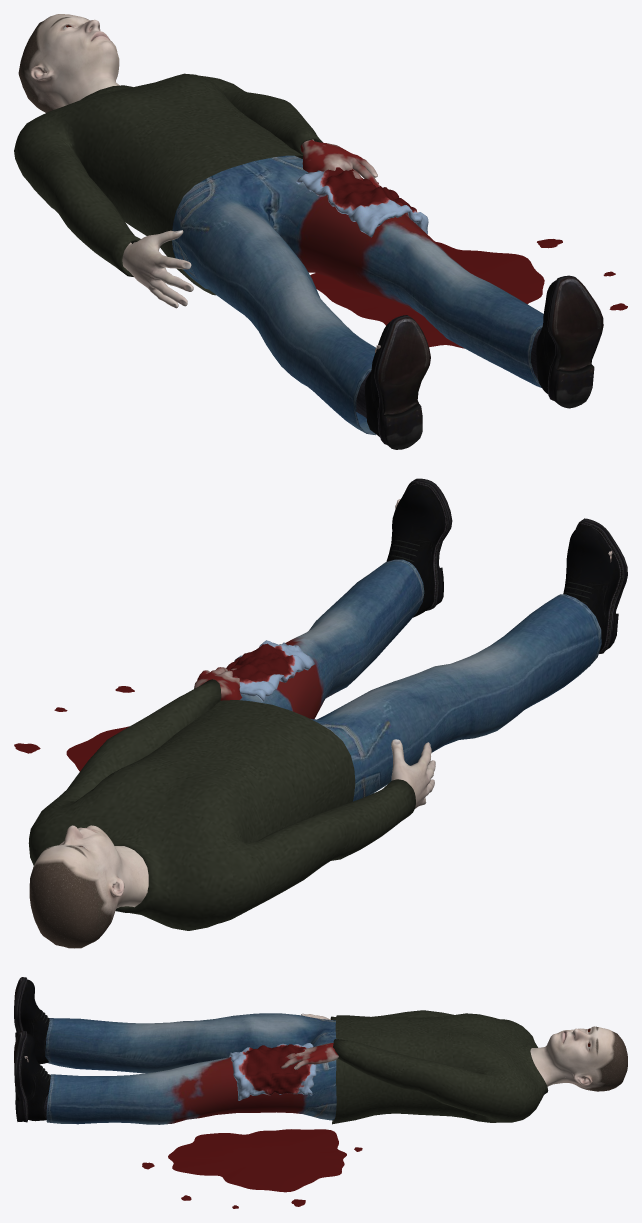
File: patient.glb
The picture shows the model from 3 angles, top to bottom: view 1: azimuth 30°, elevation 25°; view 2: azimuth 150°, elevation 25°; view 3: azimuth 270°, elevation 25°; orthographic projection. The views are drawn at different scales.
Parts seen in each view (by area): view 1: clothing_trousers, clothing_shirt, clothing_boots, head, blood_pool, dressing_thigh_left, arm_right, arm_left, airway; view 2: clothing_shirt, clothing_trousers, clothing_boots, head, dressing_thigh_left, arm_right, airway, blood_pool, arm_left; view 3: clothing_trousers, clothing_shirt, blood_pool, clothing_boots, head, dressing_thigh_left, arm_left, airway.
Boxes of the visible parts, x1,y1,x2,y2 form: clothing_trousers: [172, 155, 543, 435]; clothing_shirt: [14, 73, 322, 295]; clothing_boots: [356, 275, 603, 449]; head: [18, 14, 119, 112]; blood_pool: [310, 239, 627, 348]; dressing_thigh_left: [296, 167, 428, 237]; arm_right: [122, 230, 193, 308]; arm_left: [300, 139, 379, 187]; airway: [58, 77, 119, 107]; clothing_shirt: [28, 679, 415, 930]; clothing_trousers: [240, 559, 601, 801]; clothing_boots: [386, 478, 627, 653]; head: [29, 825, 128, 948]; dressing_thigh_left: [226, 640, 314, 701]; arm_right: [391, 739, 435, 808]; airway: [114, 846, 148, 908]; blood_pool: [14, 686, 134, 771]; arm_left: [194, 667, 242, 700]; clothing_trousers: [45, 1013, 336, 1124]; clothing_shirt: [330, 1010, 548, 1124]; blood_pool: [142, 1129, 362, 1208]; clothing_boots: [14, 977, 50, 1122]; head: [543, 1026, 627, 1091]; dressing_thigh_left: [229, 1043, 316, 1100]; arm_left: [280, 1043, 338, 1069]; airway: [531, 1047, 571, 1086].
Bounding box in the file's own units: 0.9486 × 0.3419 × 1.75.
8 materials, 6 textured.
